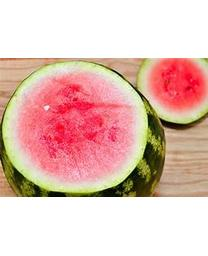watermelon: (4, 59, 165, 194)
